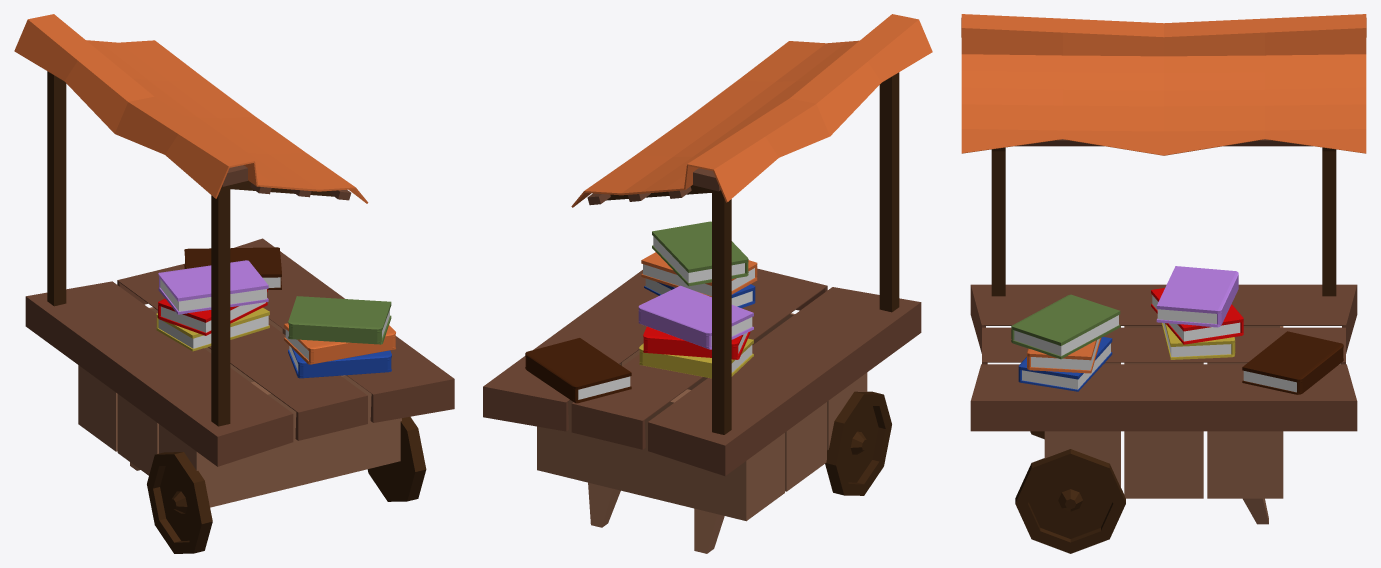
Rendered from puestoLibros3.fbx.
The picture shows the model from 3 angles, left to right: view 1: azimuth 30°, elevation 25°; view 2: azimuth 150°, elevation 25°; view 3: azimuth 270°, elevation 25°; orthographic projection. The views are drawn at different scales.
Parts seen in each view (by area): view 1: Cube.9099, Plane.1801, Cube.9098, Cube.9100, Circle.231, Cube.9110, Cube.9116, Cube.9106, Cube.9118, Cube.9108, Cube.9113, Cube.9117 (+3 smaller); view 2: Cube.9099, Plane.1801, Cube.9098, Cube.9100, Circle.231, Cube.9118, Cube.9116, Cube.9110, Cube.9114, Cube.9112, Cube.9109, Cube.9111 (+2 smaller); view 3: Plane.1801, Cube.9099, Cube.9098, Circle.231, Cube.9100, Cube.9118, Cube.9116, Cube.9110, Cube.9111, Cube.9114, Cube.9107, Cube.9106 (+8 smaller).
Boxes of the visible parts, left/top/right/bottom form: Cube.9099: left=25, top=238, right=454, bottom=466; Plane.1801: left=14, top=14, right=368, bottom=203; Cube.9098: left=78, top=307, right=401, bottom=507; Cube.9100: left=47, top=71, right=230, bottom=426; Circle.231: left=147, top=416, right=426, bottom=553; Cube.9110: left=288, top=296, right=391, bottom=344; Cube.9116: left=158, top=260, right=268, bottom=314; Cube.9106: left=288, top=348, right=391, bottom=378; Cube.9118: left=184, top=247, right=281, bottom=289; Cube.9108: left=284, top=323, right=395, bottom=364; Cube.9113: left=158, top=315, right=268, bottom=348; Cube.9117: left=160, top=279, right=266, bottom=311; Cube.9099: left=483, top=268, right=921, bottom=475; Plane.1801: left=571, top=14, right=932, bottom=207; Cube.9098: left=537, top=313, right=867, bottom=553; Cube.9100: left=712, top=72, right=899, bottom=434; Circle.231: left=825, top=391, right=891, bottom=495; Cube.9118: left=525, top=338, right=631, bottom=403; Cube.9116: left=638, top=285, right=753, bottom=349; Cube.9110: left=652, top=221, right=748, bottom=286; Cube.9114: left=643, top=326, right=750, bottom=359; Cube.9112: left=639, top=338, right=753, bottom=378; Cube.9109: left=643, top=264, right=754, bottom=296; Cube.9111: left=653, top=236, right=744, bottom=282; Plane.1801: left=961, top=14, right=1366, bottom=155; Cube.9099: left=970, top=284, right=1357, bottom=431; Cube.9098: left=1044, top=326, right=1283, bottom=524; Circle.231: left=1015, top=431, right=1125, bottom=553; Cube.9100: left=991, top=151, right=1336, bottom=296; Cube.9118: left=1242, top=331, right=1343, bottom=394; Cube.9116: left=1156, top=266, right=1238, bottom=327; Cube.9110: left=1011, top=294, right=1120, bottom=359; Cube.9111: left=1014, top=315, right=1118, bottom=355; Cube.9114: left=1151, top=288, right=1243, bottom=344; Cube.9107: left=1022, top=343, right=1110, bottom=389; Cube.9106: left=1018, top=337, right=1112, bottom=391.
Bounding box in the file's own units: 930 × 1556 × 1329.
